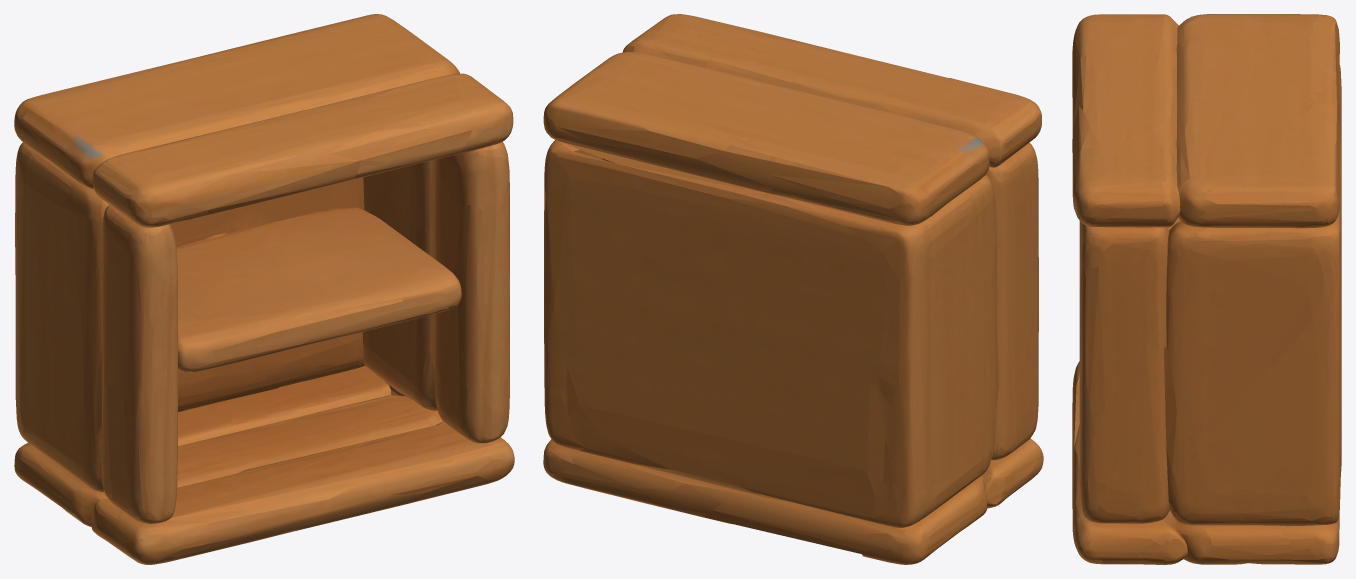
The model's file is kast.glb.
The picture shows the model from 3 angles, left to right: view 1: azimuth 30°, elevation 25°; view 2: azimuth 150°, elevation 25°; view 3: azimuth 270°, elevation 25°; orthographic projection.
Visible parts, largest first — view 1: Mesh_0; view 2: Mesh_0; view 3: Mesh_0.
Boxes of the visible parts, x1=… form: Mesh_0: x1=14, y1=14, x2=514, y2=564; Mesh_0: x1=543, y1=14, x2=1043, y2=564; Mesh_0: x1=1072, y1=14, x2=1341, y2=564.
Bounding box in the file's own units: 1.9 × 1.82 × 1.17.
1 material, 1 textured.
